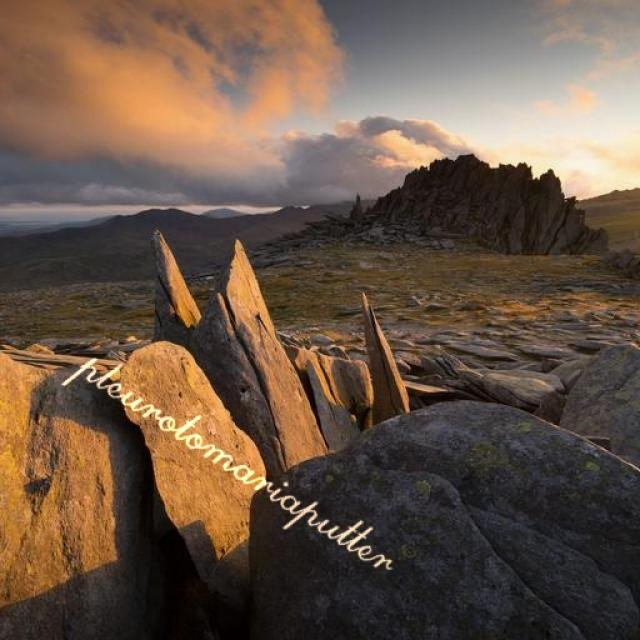watermark: (65, 339, 419, 583)
